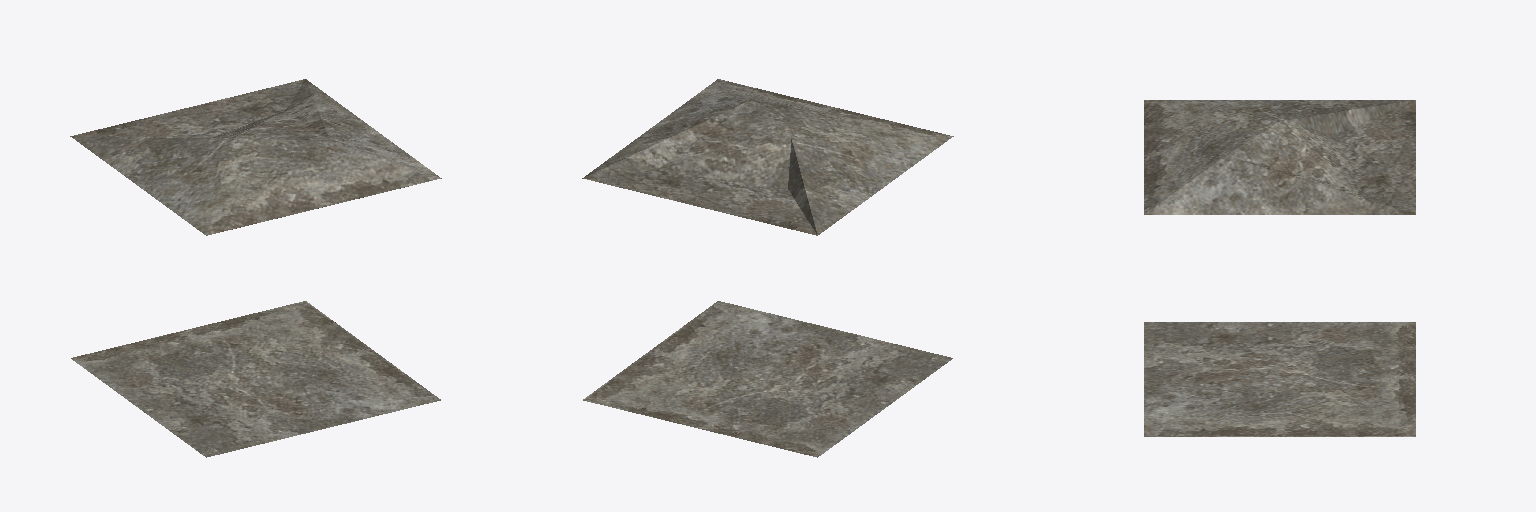
3 renders of one model, left to right at view 1: azimuth 30°, elevation 25°; view 2: azimuth 150°, elevation 25°; view 3: azimuth 270°, elevation 25°, orthographic.
Parts seen in each view (by area): view 1: stile005; view 2: stile005; view 3: stile005.
Part boxes in pixels (x1,y1,x2,y2): stile005: (70,79,441,457); stile005: (582,79,953,457); stile005: (1144,100,1415,436).
Bounding box in the file's own units: 1 × 1 × 1.
Materials: 1 (1 with a texture image).